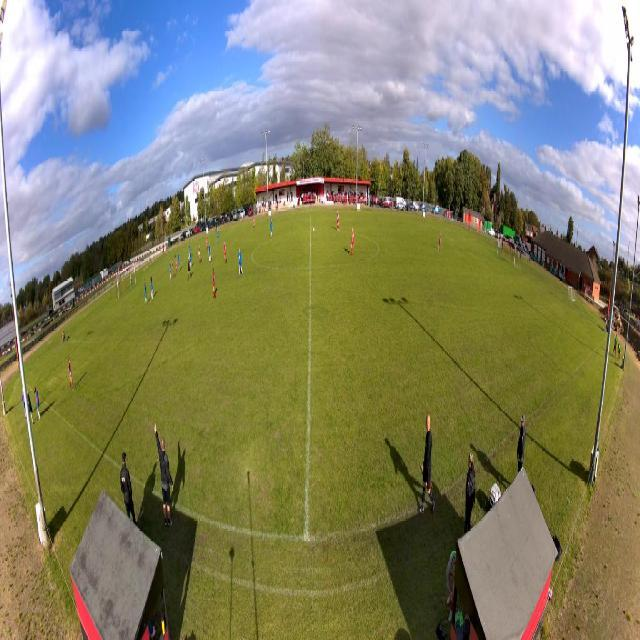ball: (313, 226, 315, 232)
player: (68, 358, 76, 390), (238, 247, 244, 277), (212, 266, 217, 300), (187, 255, 192, 281), (351, 227, 355, 256), (223, 239, 227, 265), (150, 276, 154, 301), (144, 281, 148, 306), (336, 207, 340, 231), (208, 241, 212, 262), (438, 230, 442, 251), (270, 218, 274, 238), (198, 245, 202, 264), (252, 214, 256, 231), (178, 251, 181, 272), (169, 259, 172, 280), (171, 260, 174, 280), (189, 249, 192, 268), (175, 255, 178, 274), (216, 227, 219, 245), (130, 273, 133, 291), (188, 242, 191, 259), (206, 234, 208, 250)
